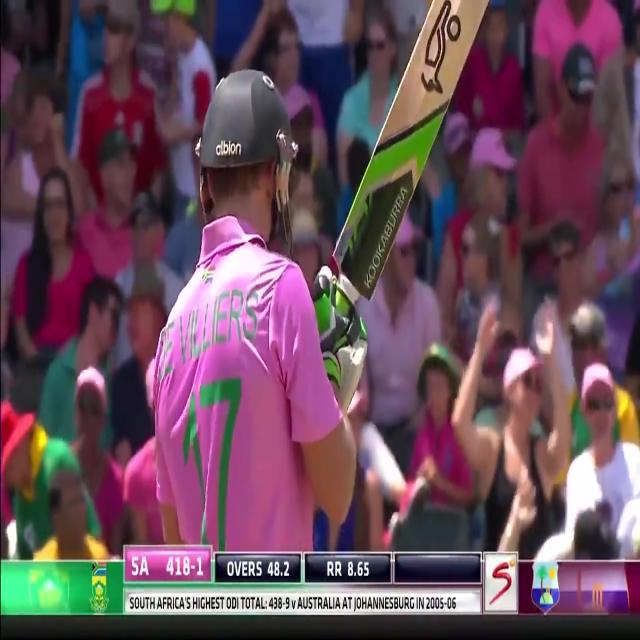Ball: (125, 67, 357, 553)
